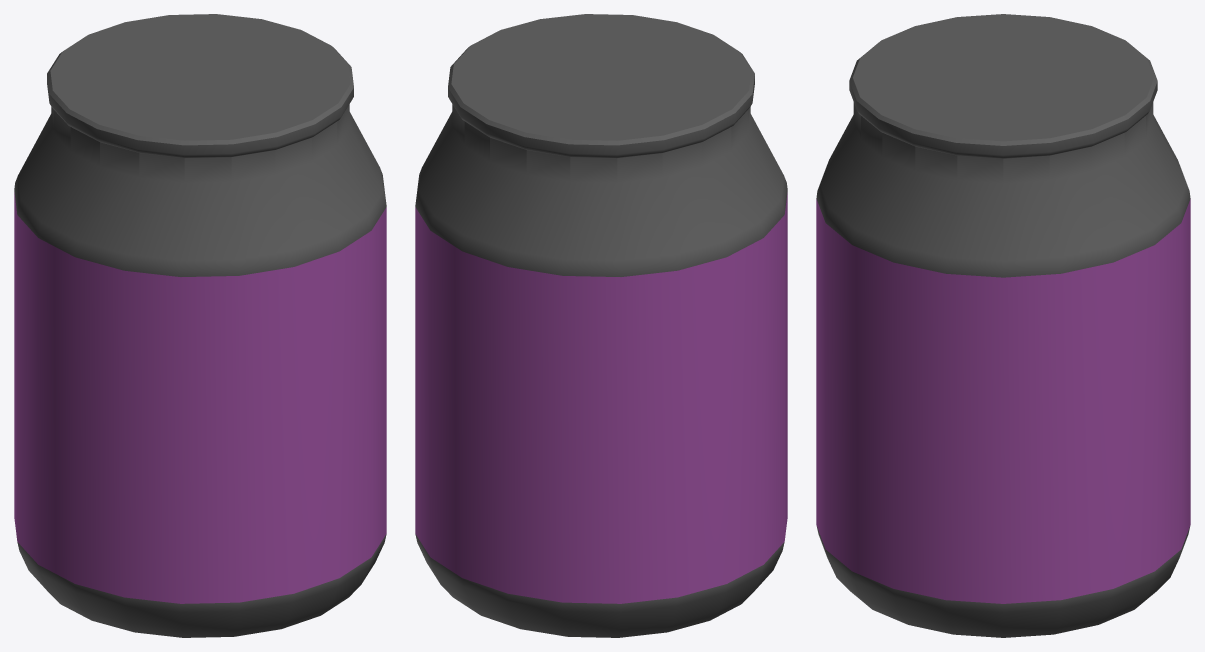
The model's file is beer.fbx.
The picture shows the model from 3 angles, left to right: view 1: azimuth 30°, elevation 25°; view 2: azimuth 150°, elevation 25°; view 3: azimuth 270°, elevation 25°; orthographic projection.
Visible parts, largest first — view 1: pCylinder1; view 2: pCylinder1; view 3: pCylinder1.
Boxes of the visible parts, left/top/right/bottom form: pCylinder1: left=14, top=14, right=386, bottom=637; pCylinder1: left=415, top=14, right=787, bottom=637; pCylinder1: left=816, top=14, right=1190, bottom=637.
Bounding box in the file's own units: 2 × 2.93 × 2.
